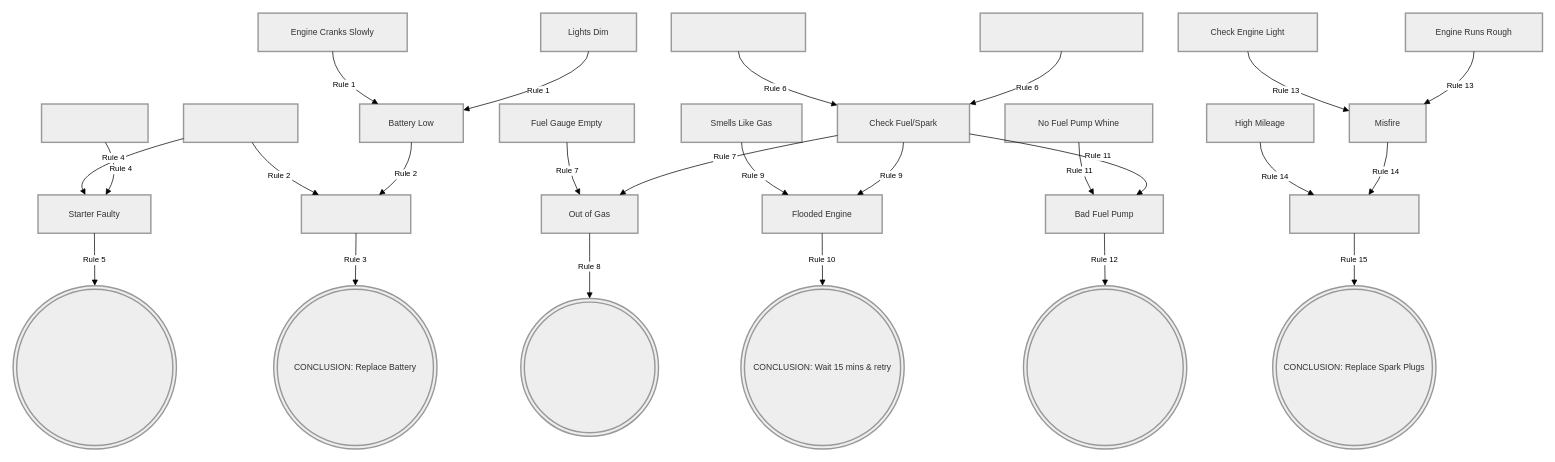
The diagram is 1555 pixels wide and 462 high, and some of its shapes have lost their labels. The shapes that lost their labels are listed below. From the top down, each one's centre as x and y in pixels, then its label:
At point (738, 32): "Engine Wont Start".
At point (1061, 32): "Engine Cranks Normally".
At point (94, 123): "Lights Bright".
At point (240, 123): "Rapid Clicking".
At point (355, 214): "Battery Dead".
At point (1354, 214): "Worn Spark Plugs".
At point (94, 367): "CONCLUSION: Replace Starter Motor".
At point (589, 367): "CONCLUSION: Add Fuel".
At point (1104, 367): "CONCLUSION: Replace Fuel Pump".
